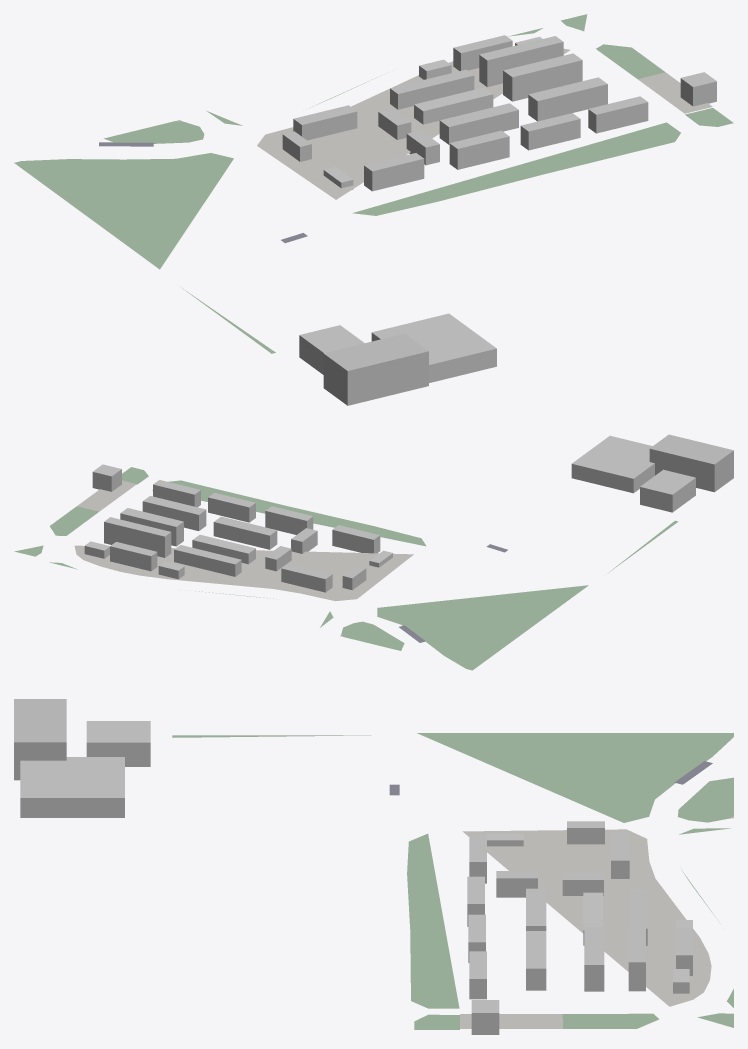
Rendered from 126_72_mid.glb.
The picture shows the model from 3 angles, top to bottom: view 1: azimuth 30°, elevation 25°; view 2: azimuth 150°, elevation 25°; view 3: azimuth 270°, elevation 25°; orthographic projection. The views are drawn at different scales.
Size of the model in its own units: 508 by 30.87 by 499.
